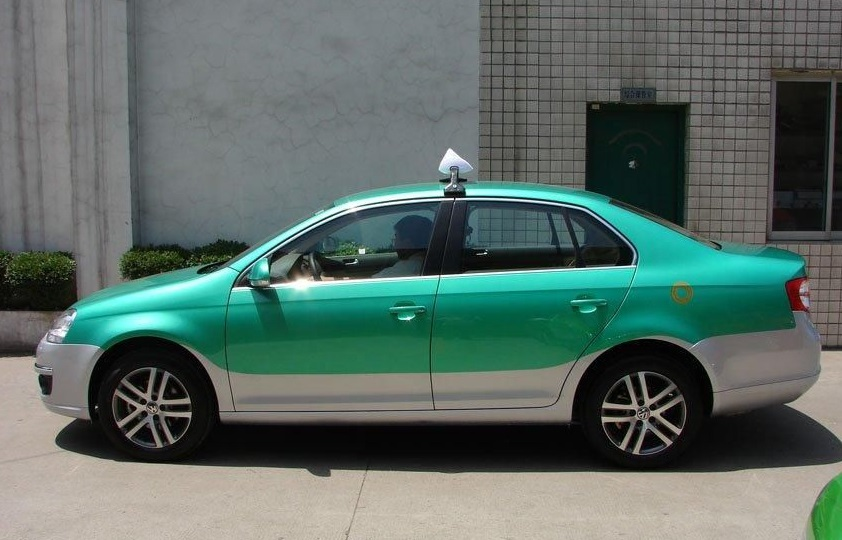taxi: (30, 144, 818, 475)
